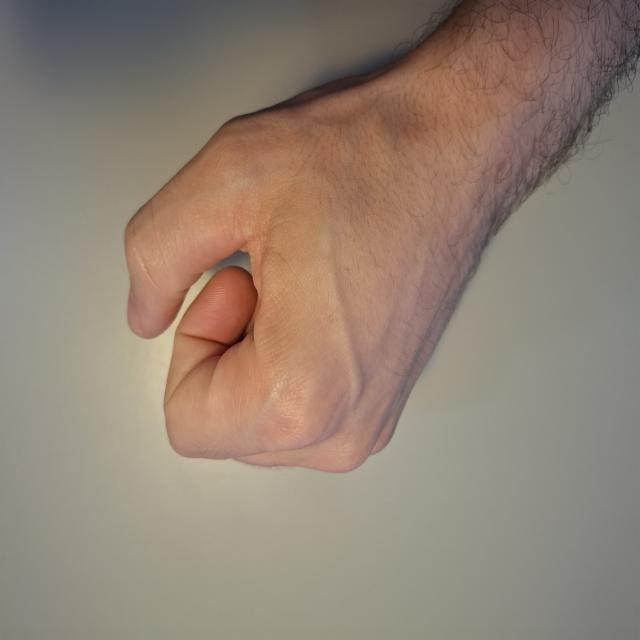glove_off: (122, 12, 557, 477)
